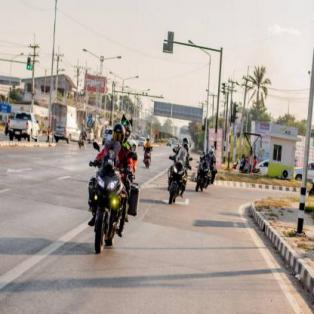Motocicleta: (82, 156, 140, 255), (158, 150, 188, 206)
